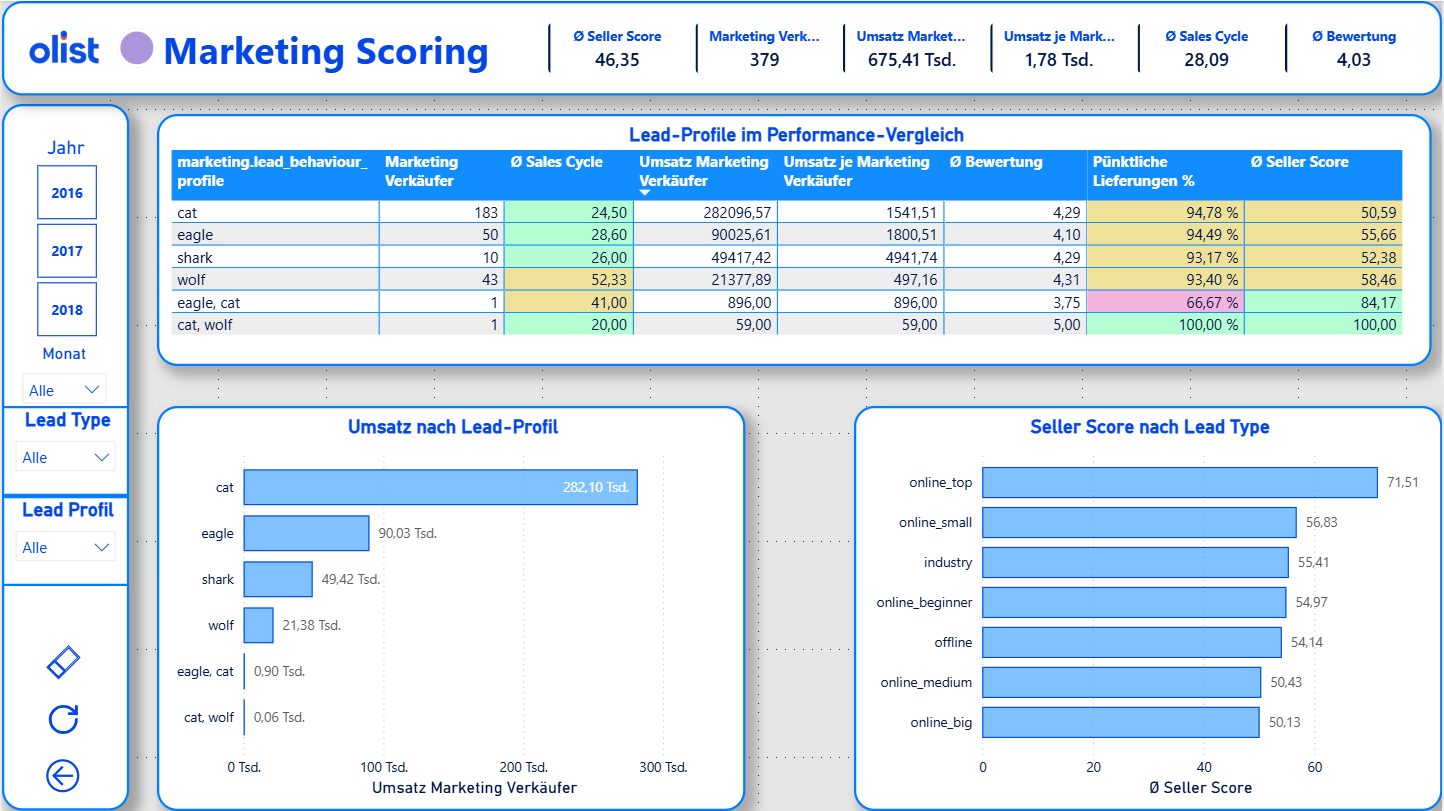

The page's visual inventory and layout, read from the dashboard file:
{"tool":"powerbi","page":{"name":"Marketing 5.3","canvas":[1280,720],"ordinal":13},"visuals":[{"type":"shape","box":[0,91.6,113,627.9],"z":0},{"type":"shape","box":[0,0,1280,83.7],"z":1000},{"type":"image","box":[23.2,19.9,64,43],"z":2000},{"type":"shape","box":[102.6,24.3,35.3,35.3],"z":3000},{"type":"actionButton","box":[33.5,668.5,44,40.5],"z":4000},{"type":"slicer","title":"Jahr","fields":{"Values":["Dim_Datum.Jahr"]},"box":[5,120,103,185],"z":5000},{"type":"image","box":[39.7,623.4,29.6,30.8],"z":6000},{"type":"actionButton","box":[34.5,567.7,40,40],"z":7000},{"type":"slicer","title":"Monat","fields":{"Values":["Dim_Datum.Monat"]},"box":[8.3,304.7,94.6,79.3],"z":8000},{"type":"cardVisual","title":"Umsatz","fields":{"Data":["_Measures.Ø Seller Score","_Measures.Marketing Verkäufer","_Measures.Umsatz Marketing Verkäufer","_Measures.Umsatz je Marketing Verkäufer","_Measures.AVG Sales Cycle","_Measures.AVG Bewertung"]},"box":[468,5.3,812,73.3],"z":9000},{"type":"pivotTable","title":"Lead-Profile im Performance-Vergleich","fields":{"Rows":["Dim_Verkaeufer.marketing.lead_behaviour_profile"],"Values":["_Measures.Marketing Verkäufer","_Measures.AVG Sales Cycle","_Measures.Umsatz Marketing Verkäufer","_Measures.Umsatz je Marketing Verkäufer","_Measures.AVG Bewertung","_Measures.Pünktliche Lieferungen %","_Measures.Ø Seller Score"]},"box":[137.3,100,1133.3,224],"z":10000},{"type":"barChart","title":"Umsatz nach Lead-Profil","fields":{"Y":["_Measures.Umsatz Marketing Verkäufer"],"Category":["Dim_Verkaeufer.marketing.lead_behaviour_profile"]},"box":[137.3,360,522.7,360],"z":11000},{"type":"barChart","title":"Seller Score nach Lead Type","fields":{"Category":["Dim_Verkaeufer.marketing.lead_type"],"Y":["_Measures.Ø Seller Score"]},"box":[757.3,360,522.7,360],"z":12000},{"type":"slicer","title":"Lead Type","fields":{"Values":["Dim_Verkaeufer.marketing.lead_type"]},"box":[0,360,113.3,80],"z":13000},{"type":"slicer","title":"Lead Profil","fields":{"Values":["Dim_Verkaeufer.marketing.lead_behaviour_profile"]},"box":[0,440,113.3,80],"z":14000}]}

Visuals, with their boxes in screenshot pixels (x1, y1, x2, y2), scaled from the page's 1280x720 canvas onto the 1444x811 screenshot:
shape: select_region(0, 103, 127, 810)
shape: select_region(0, 0, 1443, 94)
image: select_region(26, 22, 98, 71)
shape: select_region(116, 27, 156, 67)
actionButton: select_region(38, 753, 87, 799)
"Jahr" slicer: select_region(6, 135, 122, 344)
image: select_region(45, 702, 78, 737)
actionButton: select_region(39, 639, 84, 685)
"Monat" slicer: select_region(9, 343, 116, 433)
"Umsatz" cardVisual: select_region(528, 6, 1443, 89)
"Lead-Profile im Performance-Vergleich" pivotTable: select_region(155, 113, 1433, 365)
"Umsatz nach Lead-Profil" barChart: select_region(155, 406, 745, 810)
"Seller Score nach Lead Type" barChart: select_region(854, 406, 1443, 810)
"Lead Type" slicer: select_region(0, 406, 128, 496)
"Lead Profil" slicer: select_region(0, 496, 128, 586)
